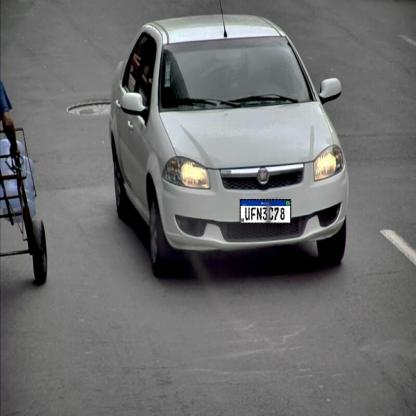PlacaM: (240, 199, 291, 224)
